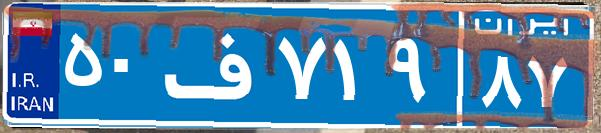0: (110, 28, 158, 105)
1: (330, 28, 385, 110)
5: (57, 26, 110, 107)
7: (273, 28, 330, 110), (525, 38, 570, 115)
8: (475, 38, 525, 113)
9: (385, 28, 445, 110)
ف: (158, 15, 273, 115)
